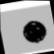correct: (20, 18, 50, 47)
